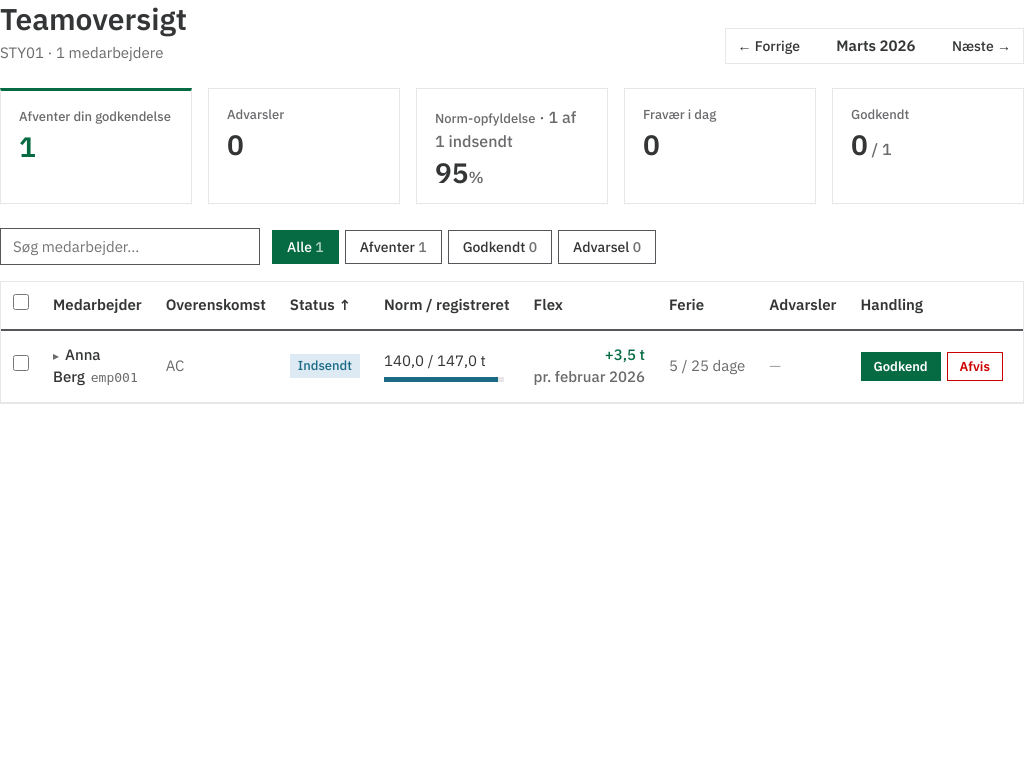
TeamRowDetail — stopPropagation on checkbox + Handling cells › clicking a Handling-cell button does NOT expand the row
The width and height of the screenshot is (1024, 768).
Expected: the text "Anna Berg" is shown, [53,344,101,386]
The row-level "Afvis" opens the reject dialog (parent), must not expand.
Click the button "Afvis" at [975, 366], box [947,352,1003,380]
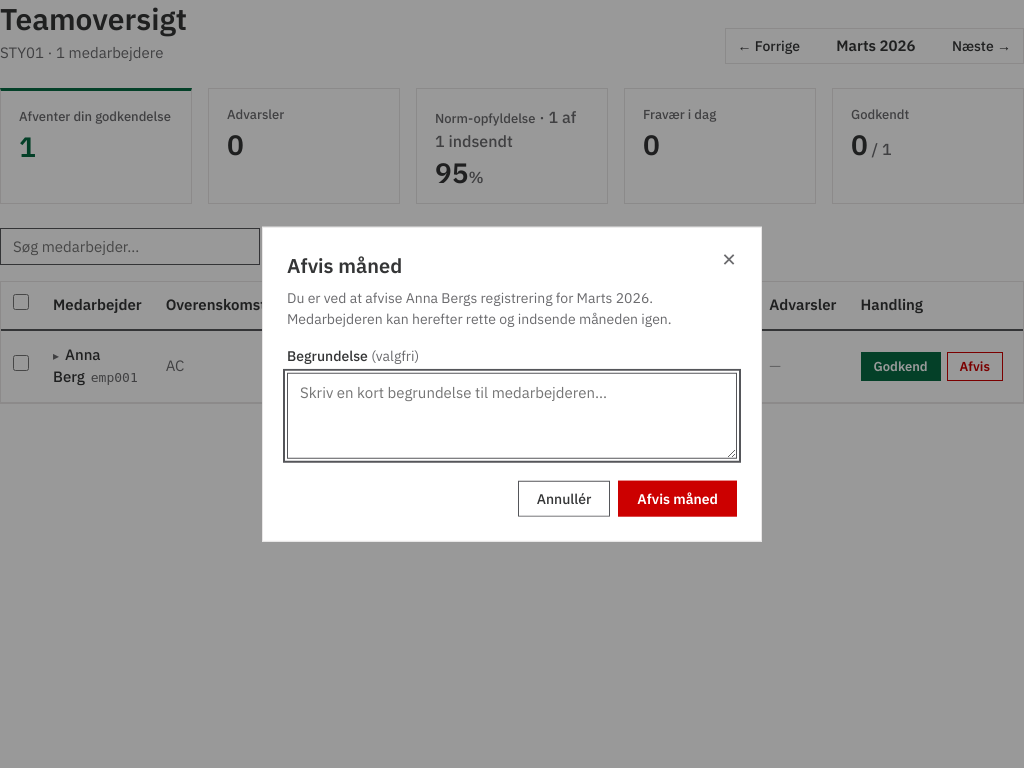
Expected: the dialog is shown, [262,227,762,541]
